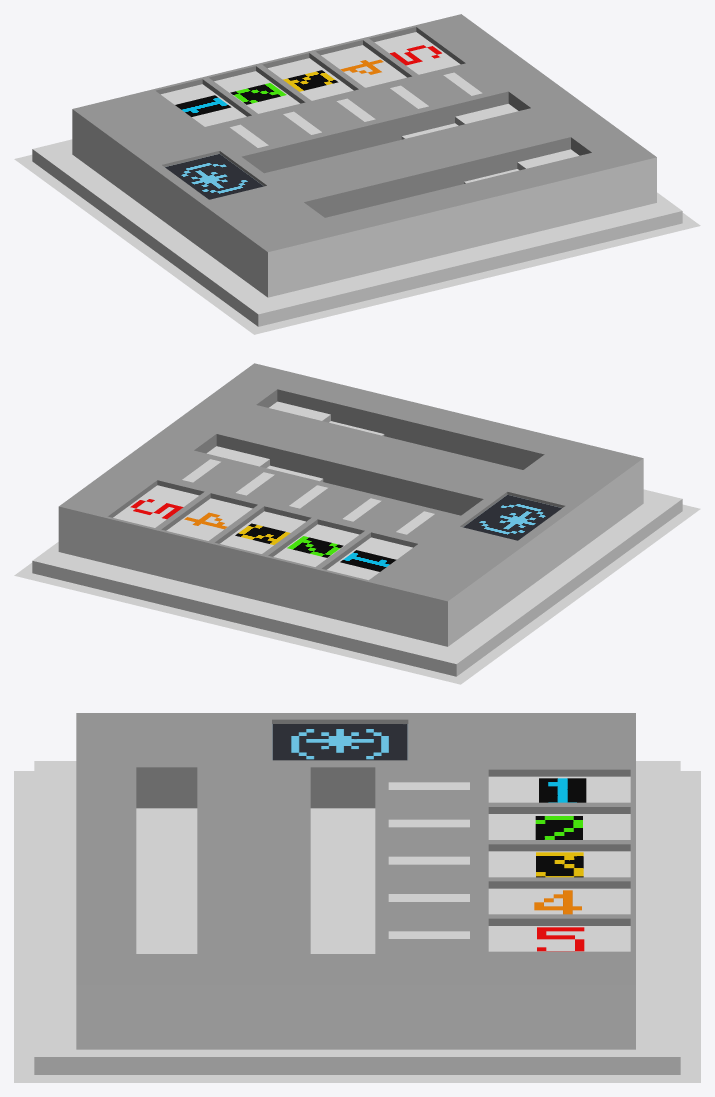
File: AnomalyPalancaRefriDiagonal.fbx
3 renders of one model, top to bottom at view 1: azimuth 30°, elevation 25°; view 2: azimuth 150°, elevation 25°; view 3: azimuth 270°, elevation 25°, orthographic. The views are drawn at different scales.
Parts seen in each view (by area): view 1: Cube.027; view 2: Cube.027; view 3: Cube.027.
Boxes of the visible parts, left/top/right/bottom form: Cube.027: left=14, top=14, right=700, bottom=334; Cube.027: left=14, top=363, right=700, bottom=684; Cube.027: left=14, top=713, right=700, bottom=1082.
Bounding box in the file's own units: 13.95 × 1.73 × 12.99.
